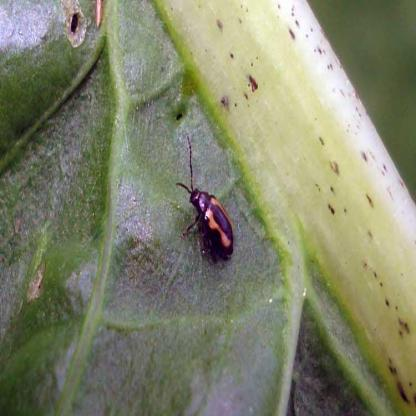beetle: (174, 151, 236, 272)
